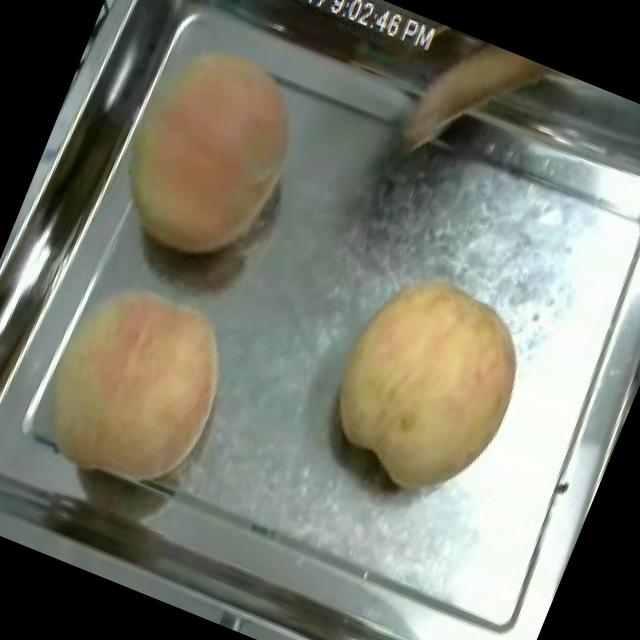Fruit: (0, 243, 260, 516), (79, 16, 335, 292), (300, 246, 554, 518)
